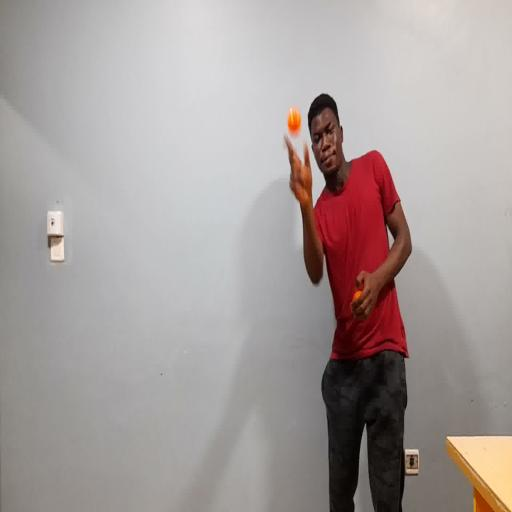plastic-ball: (288, 107, 302, 135)
